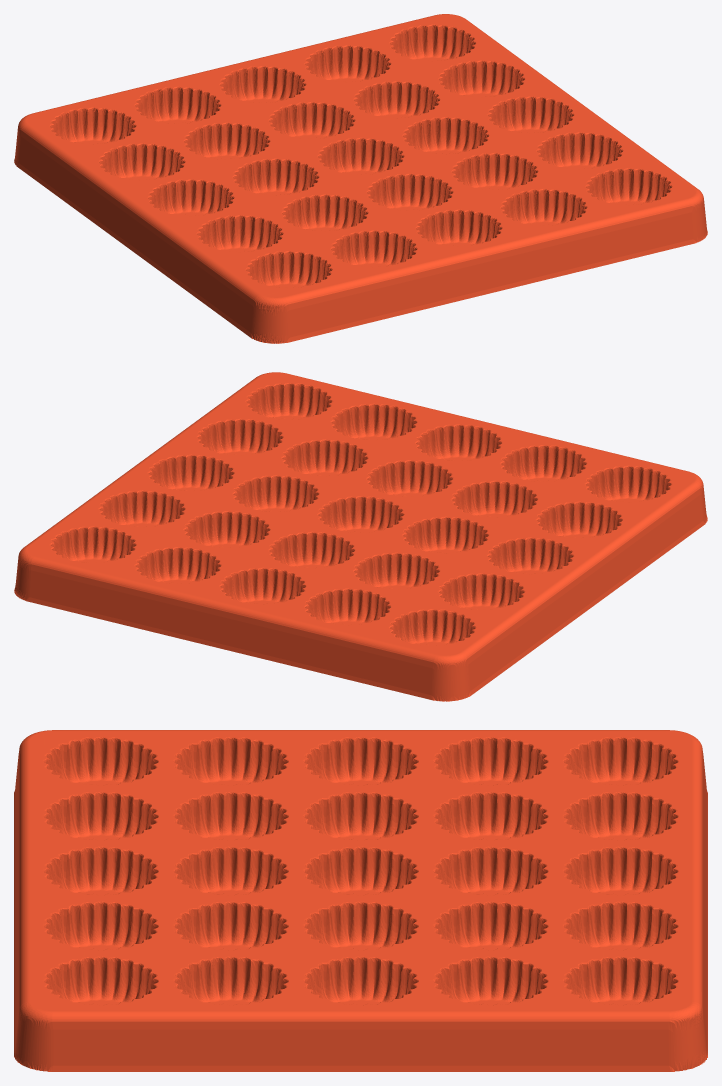
Rendered from mold.glb.
3 renders of one model, top to bottom at view 1: azimuth 30°, elevation 25°; view 2: azimuth 150°, elevation 25°; view 3: azimuth 270°, elevation 25°, orthographic. The views are drawn at different scales.
Visible parts, largest first — view 1: geometry_0; view 2: geometry_0; view 3: geometry_0.
Boxes of the visible parts, <box> form: geometry_0: <box>14,14,707,343</box>; geometry_0: <box>14,372,707,701</box>; geometry_0: <box>14,730,707,1071</box>.
Bounding box in the file's own units: 0.1584 × 0.0136 × 0.1584.
